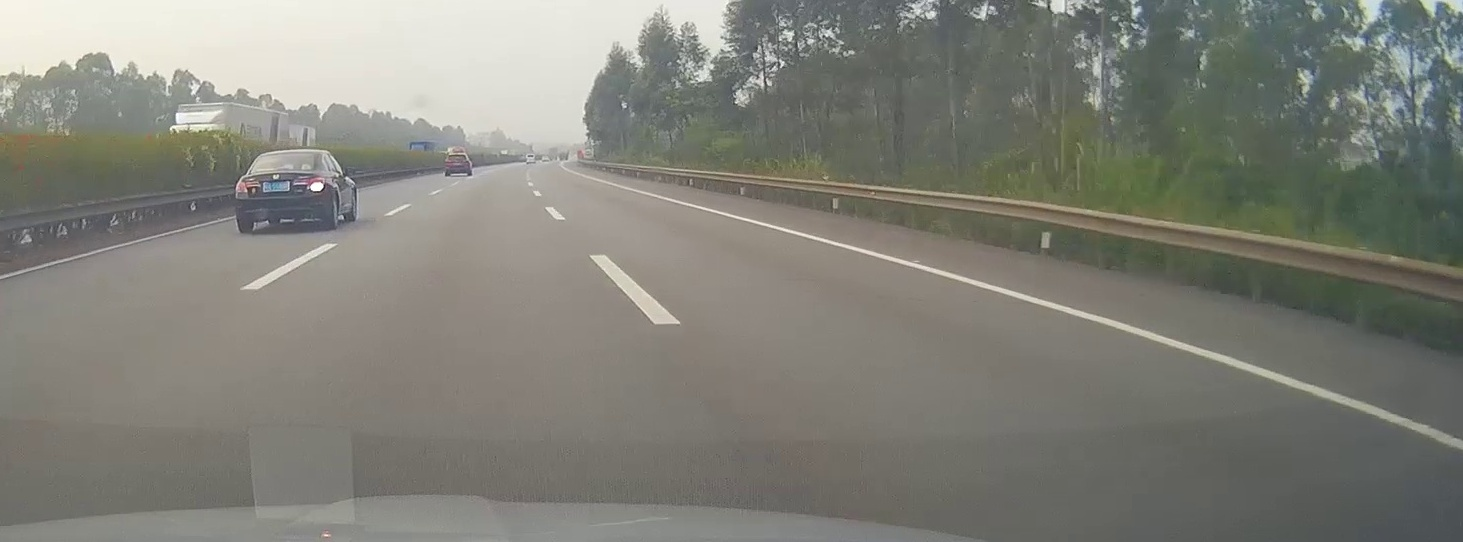L_light: (235, 179, 262, 193)
R_light: (294, 177, 325, 192)
T_light: (281, 151, 295, 156)
day-right: (235, 148, 330, 233)
